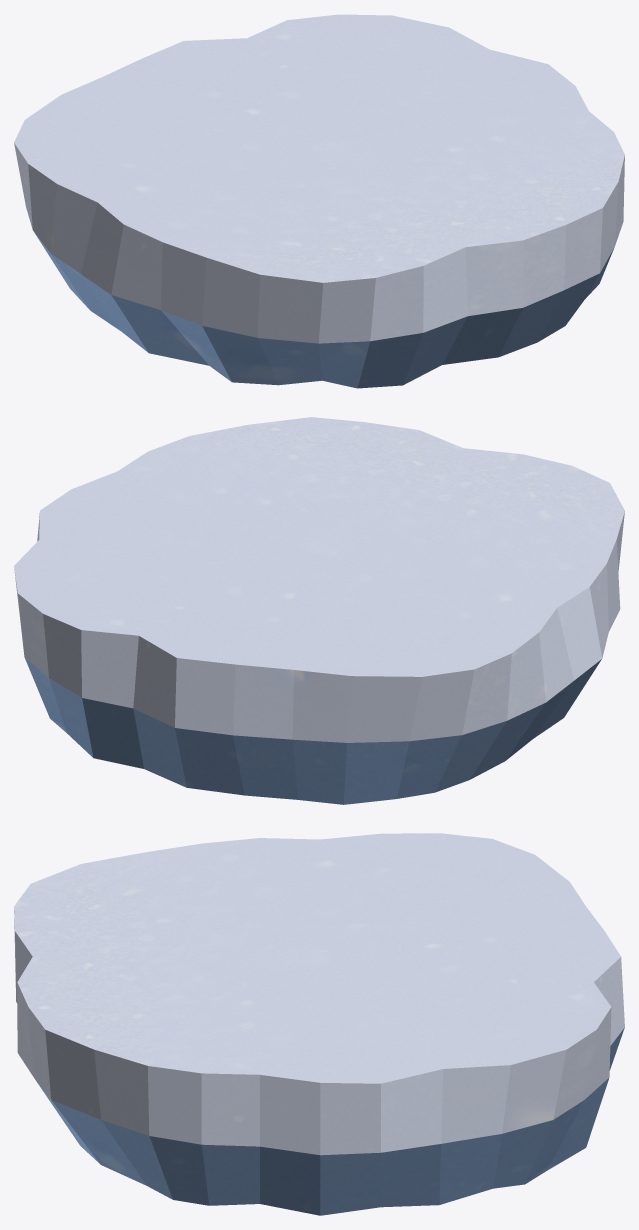
The model's file is Ice2.fbx.
3 renders of one model, top to bottom at view 1: azimuth 30°, elevation 25°; view 2: azimuth 150°, elevation 25°; view 3: azimuth 270°, elevation 25°, orthographic. The views are drawn at different scales.
Visible parts, largest first — view 1: ice; view 2: ice; view 3: ice.
Part boxes in pixels (x1=…): ice: x1=14, y1=14, x2=624, y2=388; ice: x1=14, y1=417, x2=624, y2=804; ice: x1=14, y1=833, x2=624, y2=1215.
Size of the model in its own units: 194 by 50 by 197.
